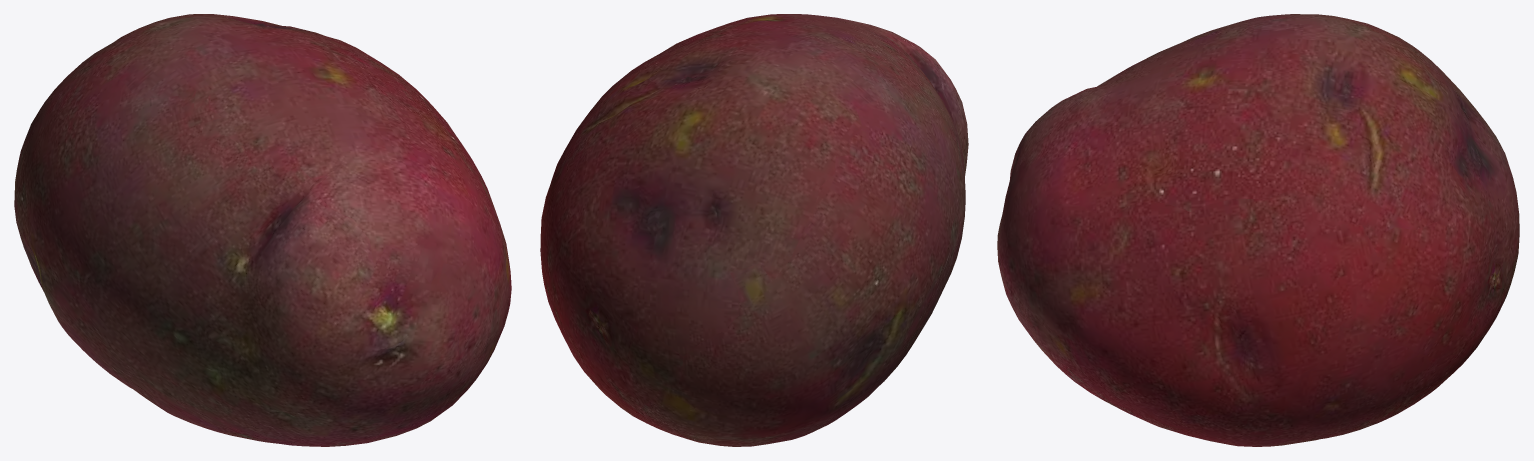
Rendered from potato.glb.
The picture shows the model from 3 angles, left to right: view 1: azimuth 30°, elevation 25°; view 2: azimuth 150°, elevation 25°; view 3: azimuth 270°, elevation 25°; orthographic projection. The views are drawn at different scales.
Visible parts, largest first — view 1: sm_food_produce_potato_c01_01; view 2: sm_food_produce_potato_c01_01; view 3: sm_food_produce_potato_c01_01.
Part boxes in pixels (x1,y1,x2,y2): sm_food_produce_potato_c01_01: [14, 14, 511, 446]; sm_food_produce_potato_c01_01: [540, 14, 968, 446]; sm_food_produce_potato_c01_01: [997, 14, 1519, 446].
Bounding box in the file's own units: 0.0718 × 0.0707 × 0.09.
Materials: 1 (1 with a texture image).
